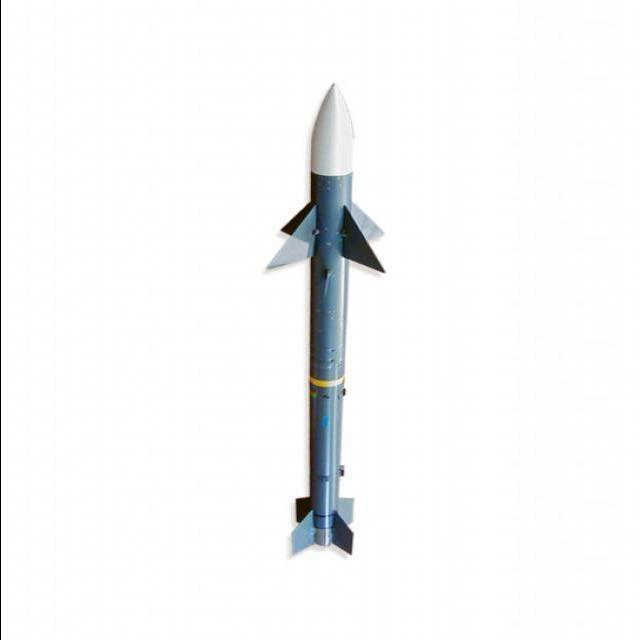missile: (260, 75, 379, 556)
